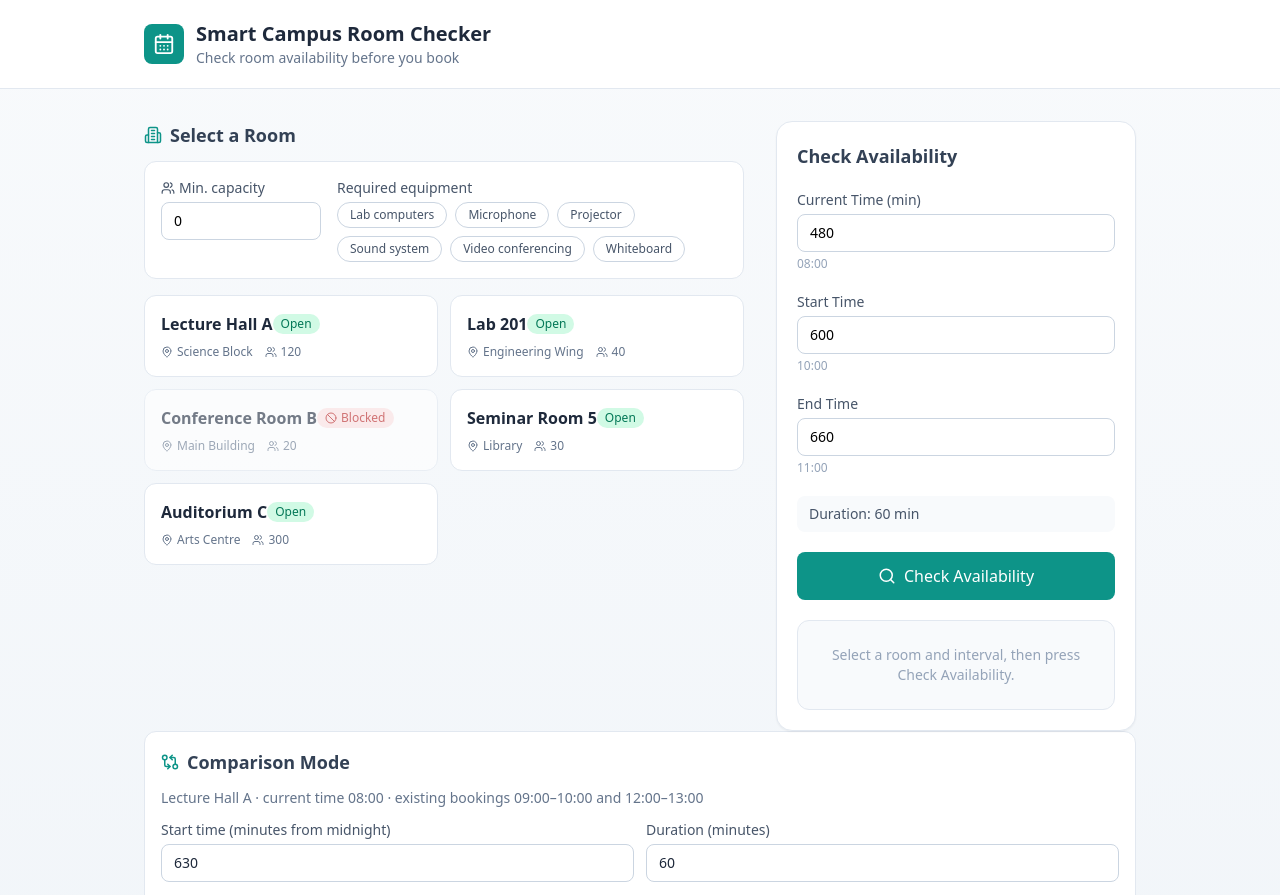
ExplainSection through App › explains a blocked-room rejection through the UI
This screenshot has width=1280, height=895.
Step 1. Click the button "Conference Room B Blocked Main Building 20" → (291, 430), box [144,389,438,471]
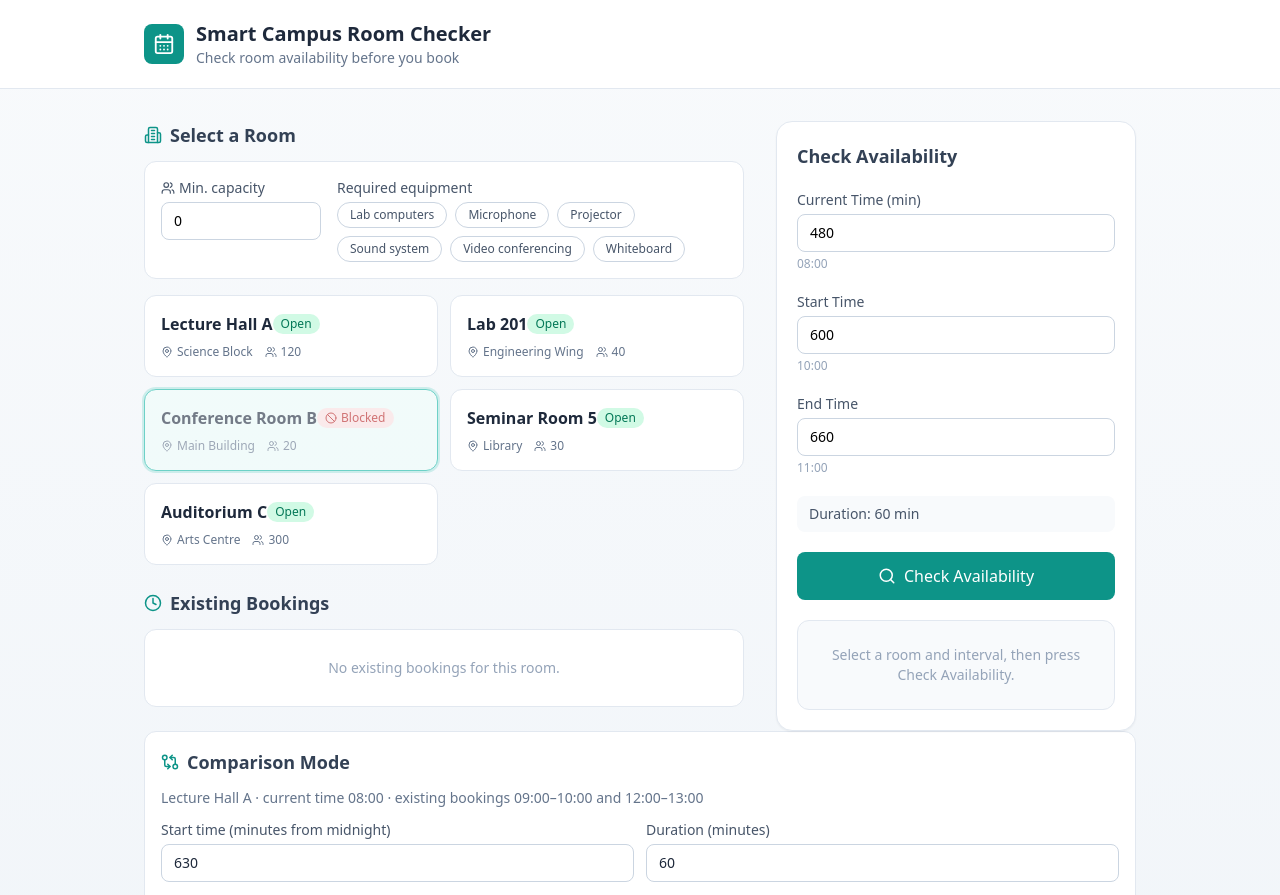
Step 2. Click the button "Check Availability" → (956, 576), box [797,552,1115,600]
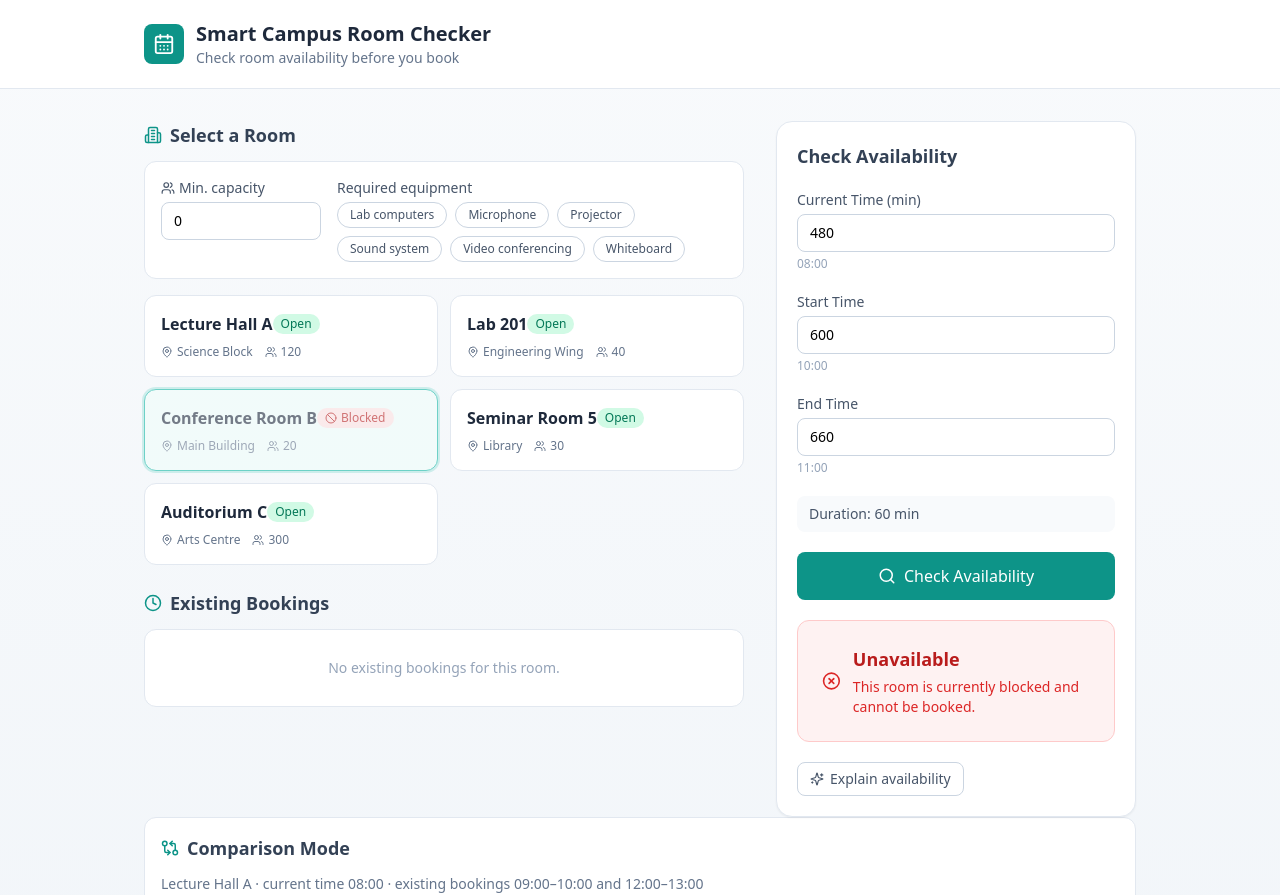
expect the text "Unavailable" is shown: met, box [853,647,960,671]
Step 3. Click the button "Explain availability" → (880, 779), box [797,762,964,796]
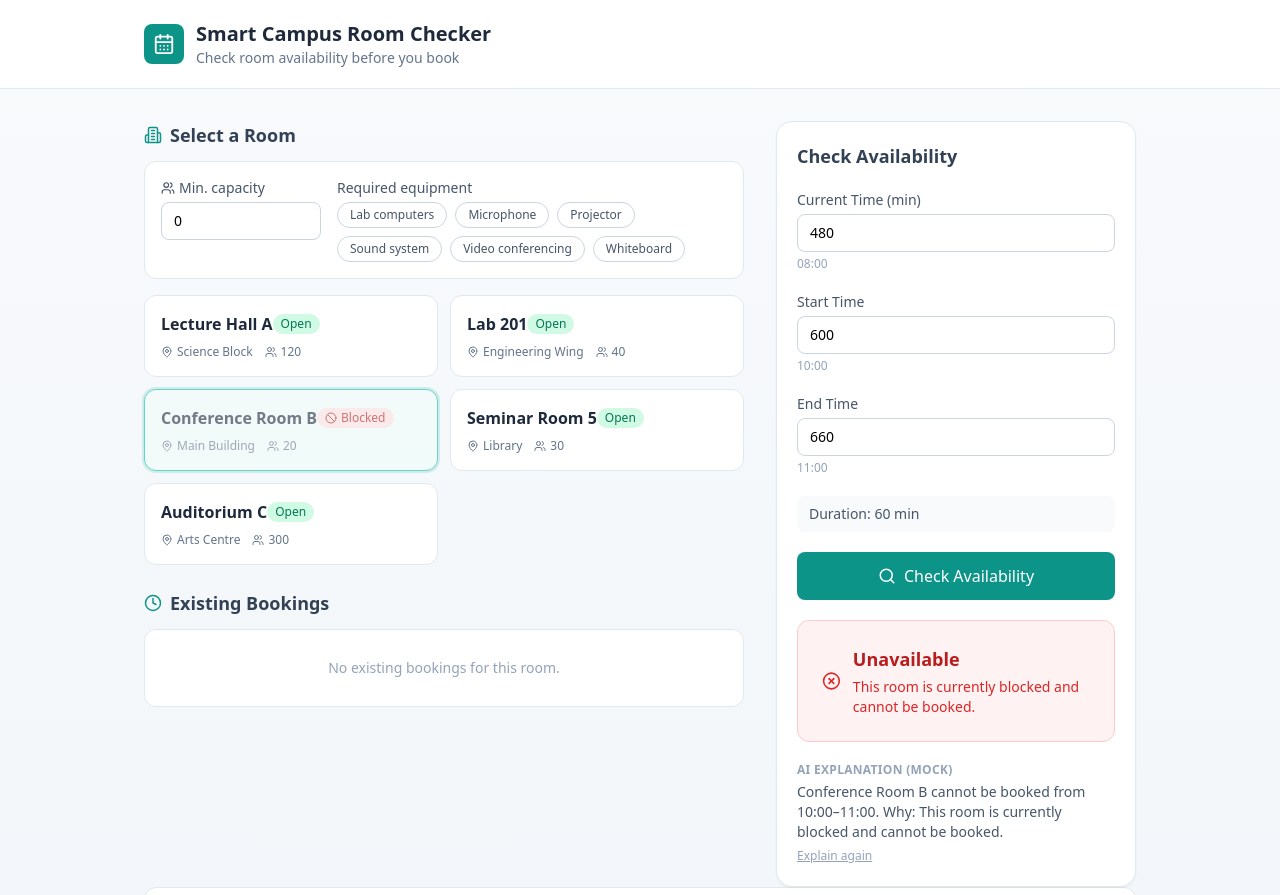
expect the text "AI explanation (mock)" is shown: met, box [797,761,952,778]
expect the text "Conference Room B cannot be booked" shows "blocked and cannot be booked": met, box [797,782,1085,841]
